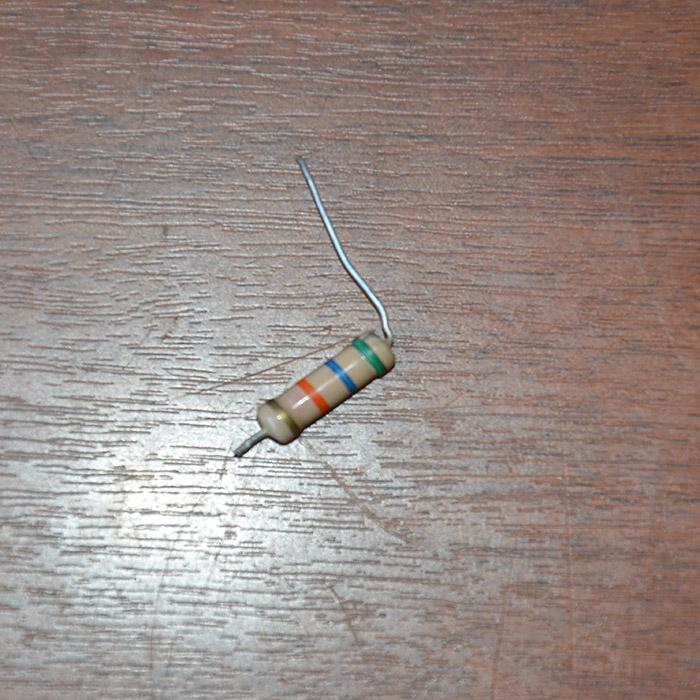resistor: (241, 329, 396, 450)
